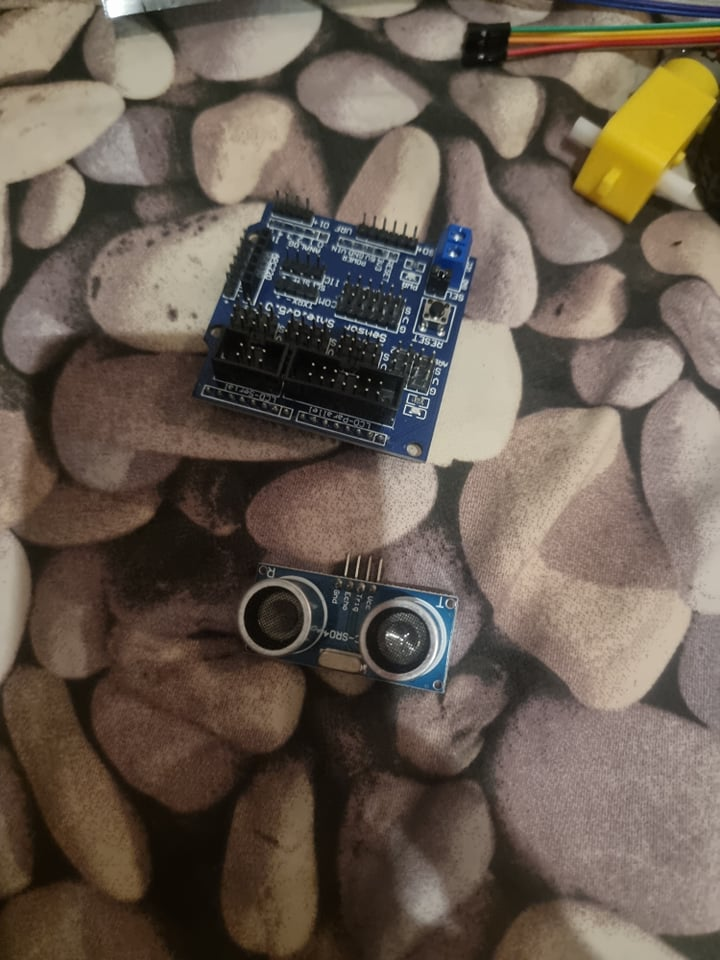5V EXPANSION: (195, 191, 478, 464)
SENSOR: (234, 563, 460, 697)
